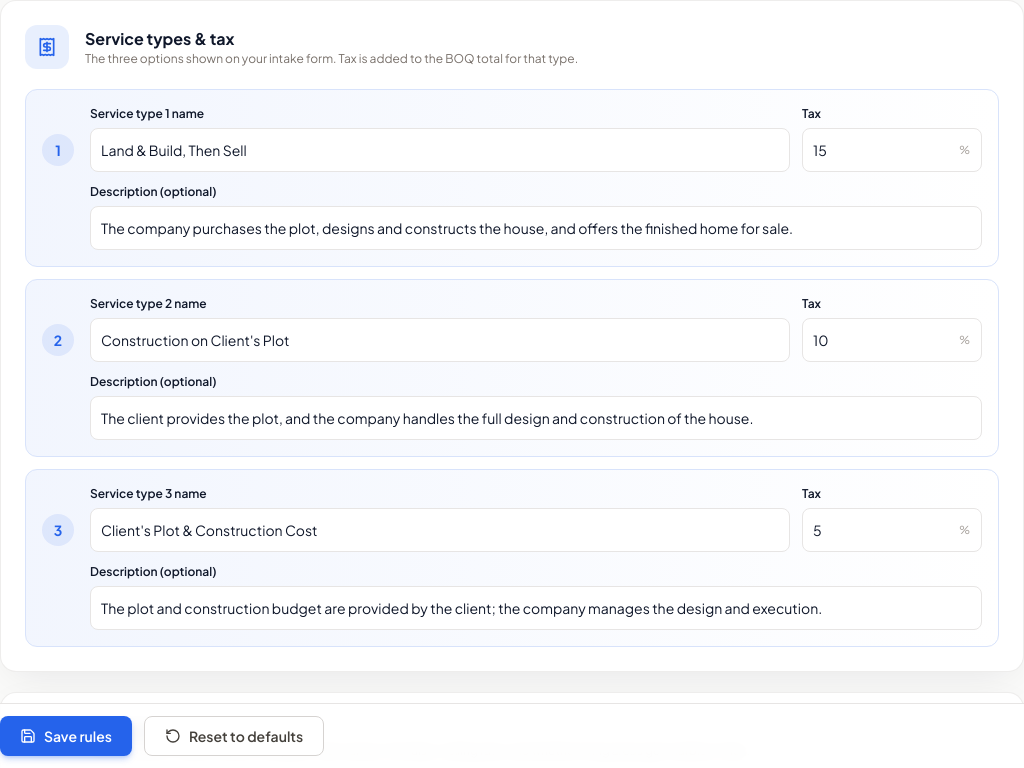
it: RulesForm › asks for confirmation before resetting, then sends { reset: true }
Click the button "Reset to defaults".
click(234, 736)  # box [144,716,324,756]
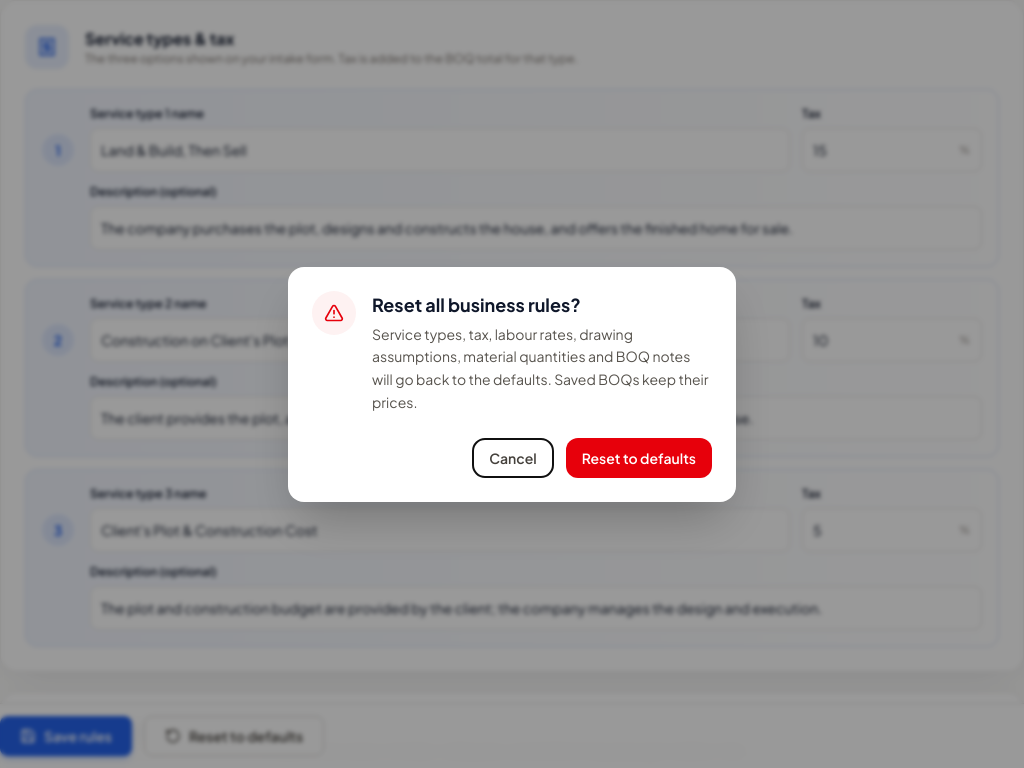
Click the button "Reset to defaults".
click(639, 458)  # box [566,438,712,478]
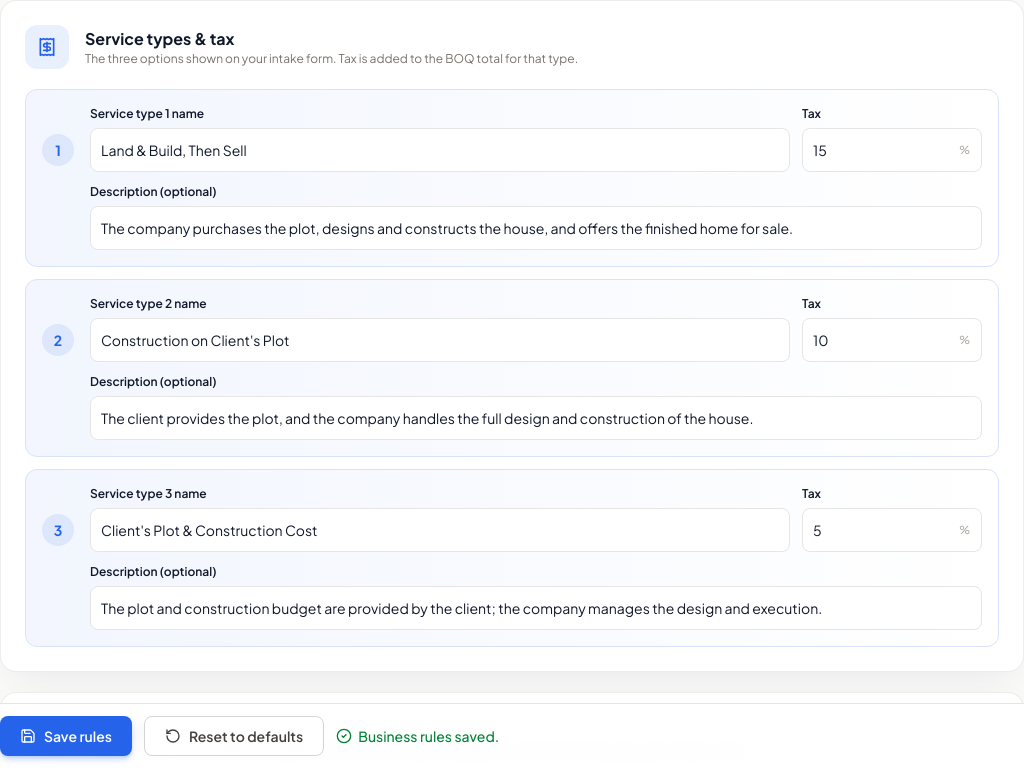
Expected: the message "Business rules saved." is shown, [336,726,499,746]
Expected: the dialog is gone
